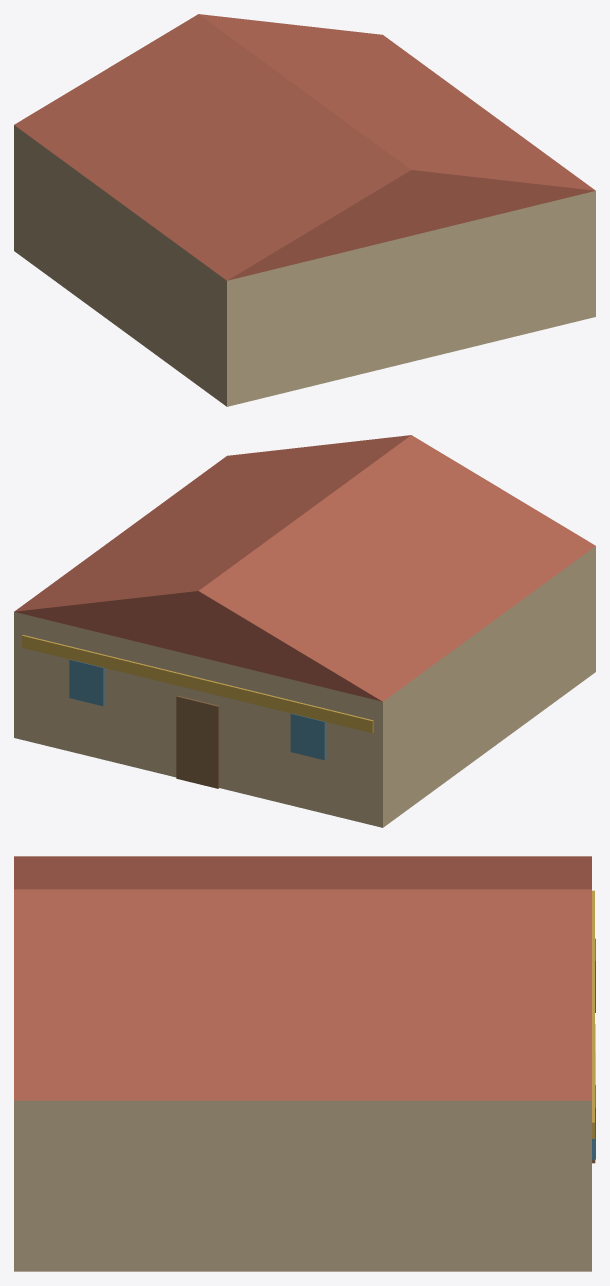
File: shop_supermarket.glb
The picture shows the model from 3 angles, top to bottom: view 1: azimuth 30°, elevation 25°; view 2: azimuth 150°, elevation 25°; view 3: azimuth 270°, elevation 25°; orthographic projection. The views are drawn at different scales.
Size of the model in its own units: 7.04 by 3.5 by 7.09.
